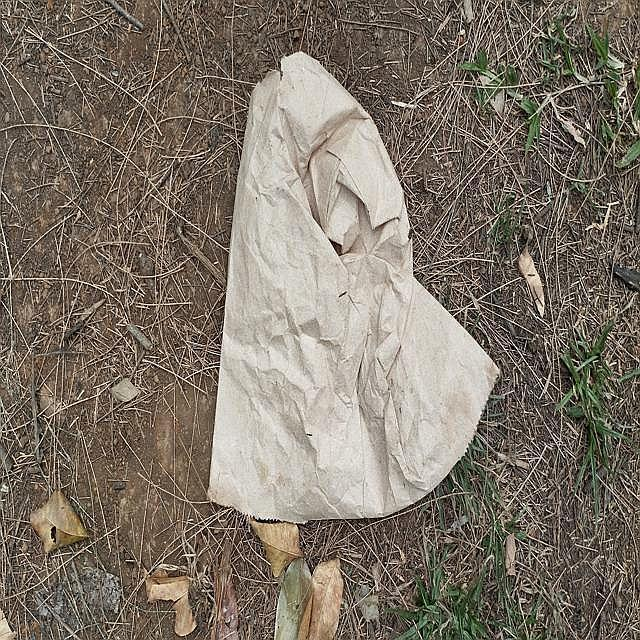Biodegradable: (207, 56, 500, 522)
